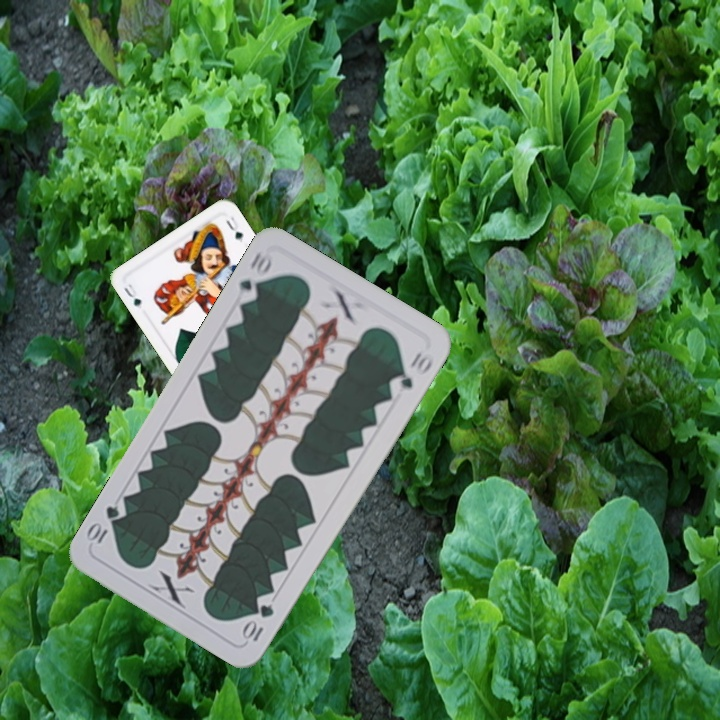G10: (234, 246, 275, 306), (239, 600, 277, 645)
GU: (120, 280, 144, 311)
